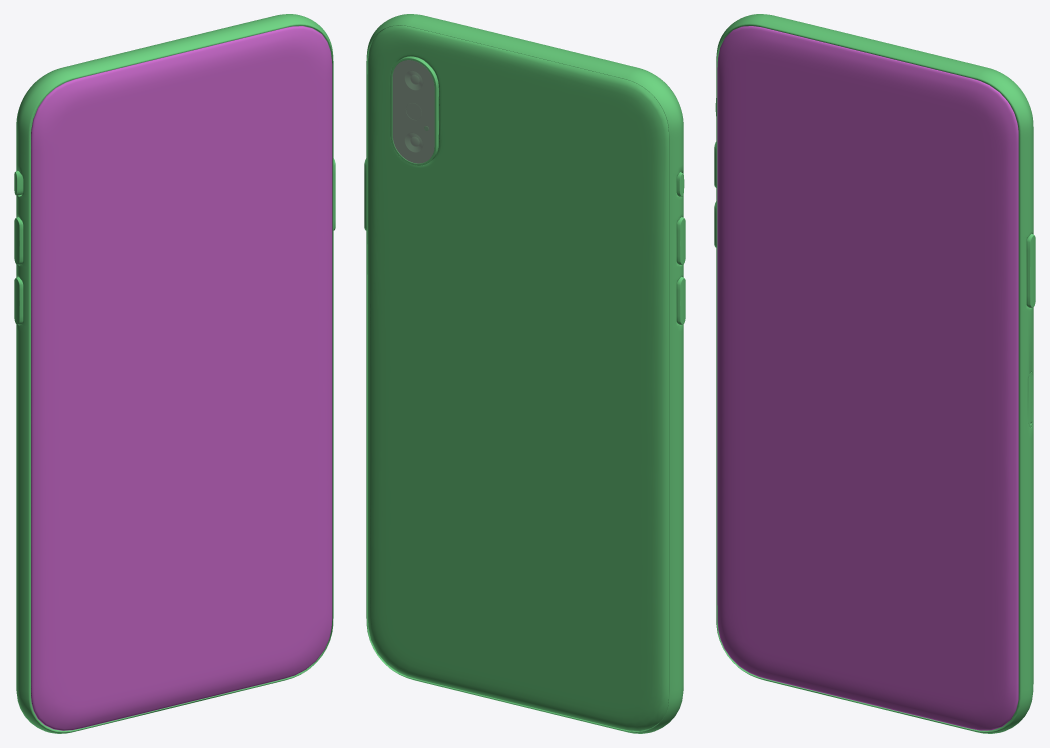
The model's file is iPhoneX.fbx.
3 views of the same model, side by side, from view 1: azimuth 30°, elevation 25°; view 2: azimuth 150°, elevation 25°; view 3: azimuth 330°, elevation 25° (orthographic).
Visible parts, largest first — view 1: mesh_screen, mesh_body; view 2: mesh_body, camera_glass; view 3: mesh_screen, mesh_body.
Boxes of the visible parts, left/top/right/bottom form: mesh_screen: left=31, top=26, right=332, bottom=730; mesh_body: left=14, top=14, right=335, bottom=733; mesh_body: left=364, top=14, right=685, bottom=733; camera_glass: left=392, top=60, right=434, bottom=163; mesh_screen: left=717, top=26, right=1018, bottom=730; mesh_body: left=714, top=14, right=1035, bottom=733.
Size of the model in its own units: 10.41 by 20.75 by 1.23.
